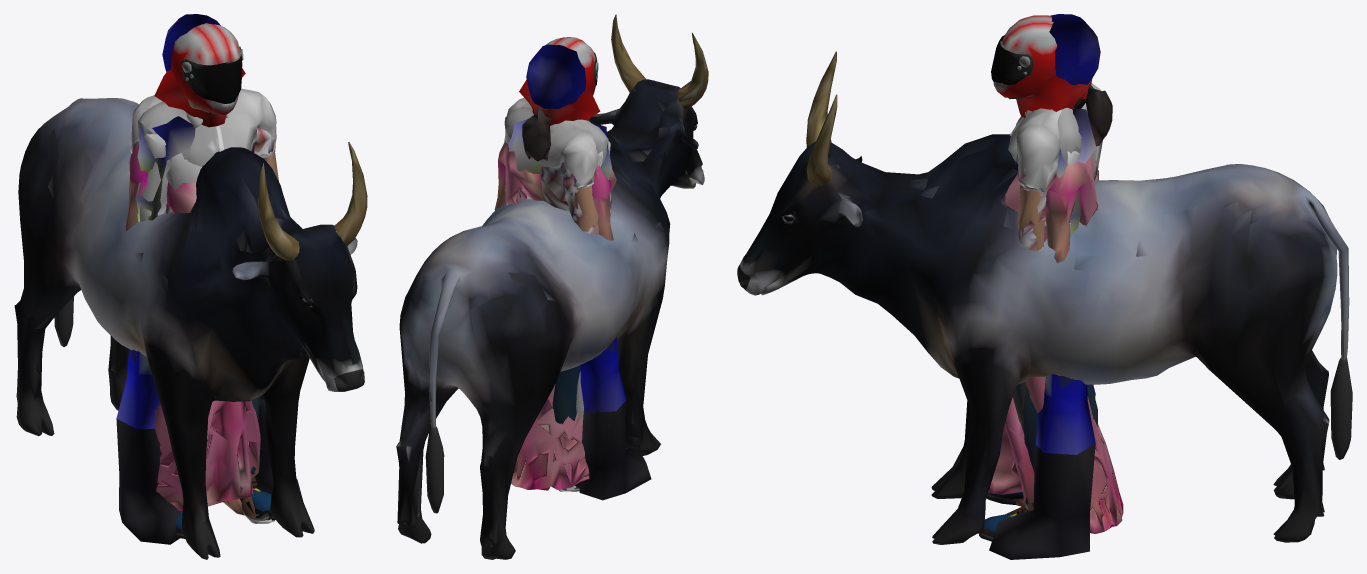
The model's file is people.glb.
The picture shows the model from 3 angles, left to right: view 1: azimuth 30°, elevation 25°; view 2: azimuth 150°, elevation 25°; view 3: azimuth 270°, elevation 25°; orthographic projection. The views are drawn at different scales.
Visible parts, largest first — view 1: bull, rider-m, saree, biker, guy, office, rider-f, uncle; view 2: bull, rider-m, saree, guy, biker, uncle, rider-f; view 3: bull, rider-m, saree, biker, guy, rider-f, uncle.
Part boxes in pixels (<box>): bull: <box>14,98,367,559</box>; rider-m: <box>116,14,303,544</box>; saree: <box>125,145,260,515</box>; biker: <box>138,23,271,530</box>; guy: <box>129,23,278,520</box>; office: <box>138,112,275,538</box>; rider-f: <box>154,68,259,484</box>; uncle: <box>132,99,275,523</box>; bull: <box>396,14,708,559</box>; rider-m: <box>504,44,651,500</box>; saree: <box>494,107,616,490</box>; guy: <box>506,41,598,491</box>; biker: <box>504,37,626,448</box>; uncle: <box>541,162,598,491</box>; rider-f: <box>519,80,600,125</box>; bull: <box>737,51,1352,544</box>; rider-m: <box>989,14,1100,559</box>; saree: <box>988,83,1123,533</box>; biker: <box>984,15,1081,534</box>; guy: <box>1008,20,1100,513</box>; rider-f: <box>1016,75,1091,117</box>; uncle: <box>1006,141,1102,514</box>.
Size of the model in its own units: 0.6548 by 1.74 by 1.94.
